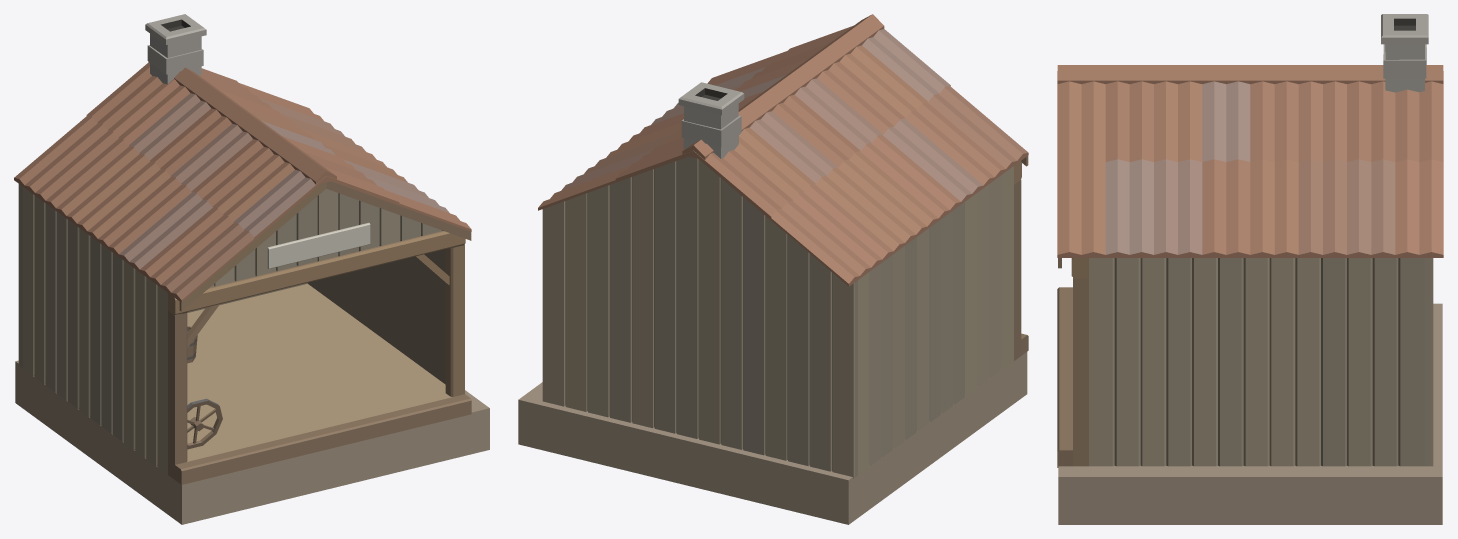
File: house_8.glb
The picture shows the model from 3 angles, left to right: view 1: azimuth 30°, elevation 25°; view 2: azimuth 150°, elevation 25°; view 3: azimuth 270°, elevation 25°; orthographic projection. The views are drawn at different scales.
Visible parts, largest first — view 1: house_8; view 2: house_8; view 3: house_8.
Part boxes in pixels (x1=…): house_8: x1=14, y1=14, x2=489, y2=524; house_8: x1=518, y1=14, x2=1028, y2=524; house_8: x1=1057, y1=14, x2=1443, y2=524.
Bounding box in the file's own units: 7.98 × 8.75 × 7.5.
